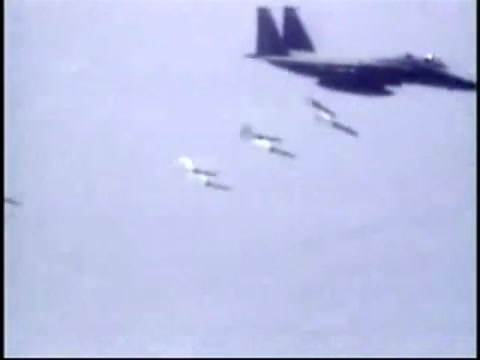aeroplane: (246, 5, 478, 98)
